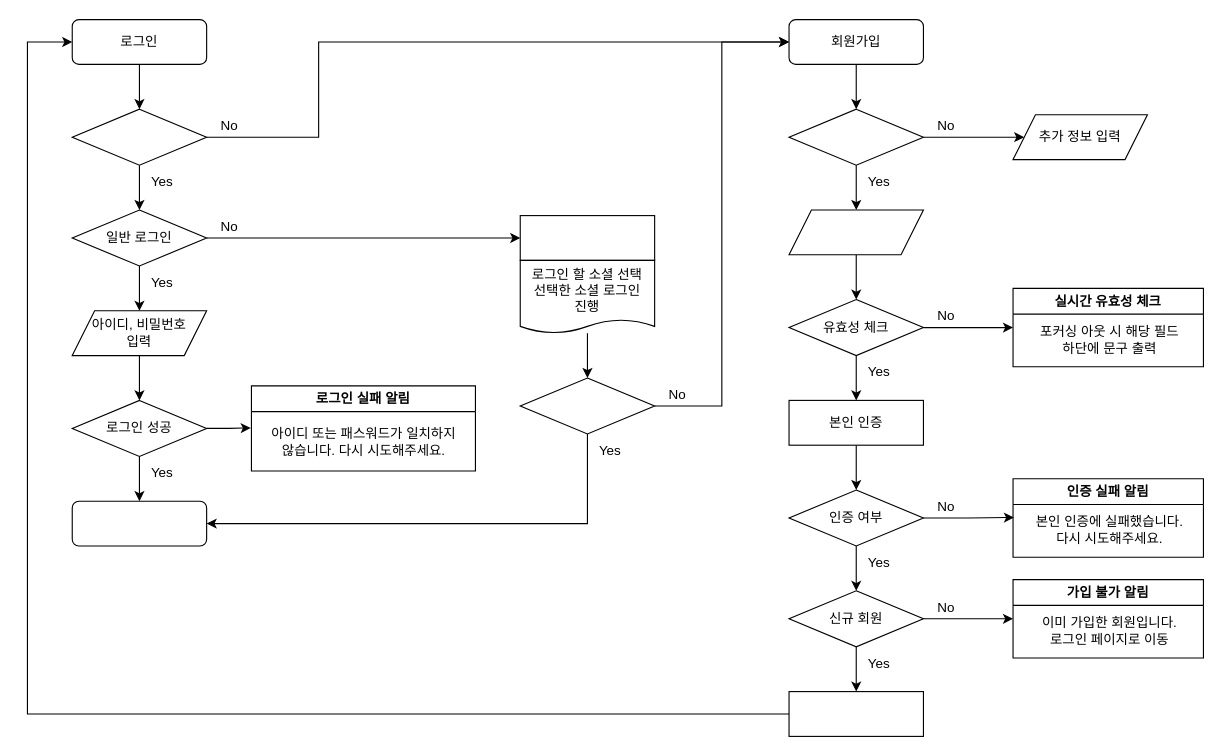
This 1224x756 diagram has some shape labels left out. Here are the shapes that lost their labels. From the top down, the centre of each, then its label:
At (x=139, y=136): "계정 유무".
At (x=855, y=136): "일반 가입".
At (x=587, y=237): "소셜 로그인".
At (x=855, y=232): "회원 정보 입력".
At (x=587, y=405): "소셜 로그인 가입 유무".
At (x=139, y=523): "메인 화면".
At (x=855, y=713): "가입 등록".
